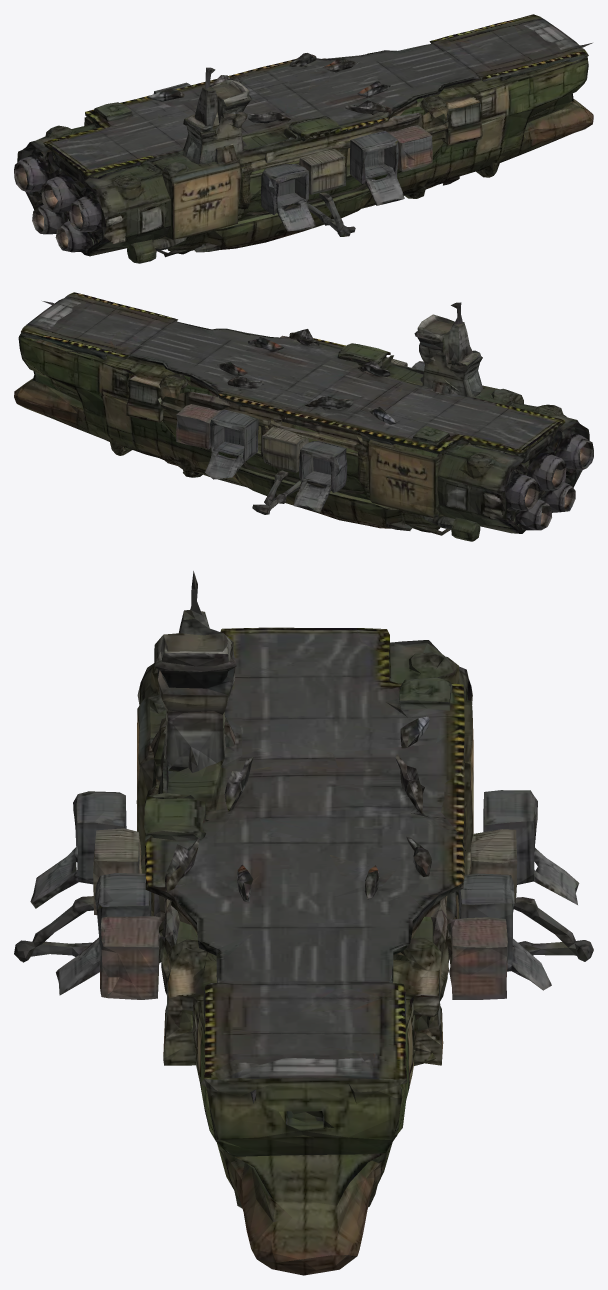
The model's file is 01_航空母艦.glb.
3 views of the same model, one above another, from view 1: azimuth 30°, elevation 25°; view 2: azimuth 150°, elevation 25°; view 3: azimuth 270°, elevation 25° (orthographic). The views are drawn at different scales.
Parts seen in each view (by area): view 1: part_1; view 2: part_1; view 3: part_1.
Part boxes in pixels (<box>): part_1: <box>14,14,593,263</box>; part_1: <box>14,292,593,541</box>; part_1: <box>14,571,593,1275</box>.
Size of the model in its own units: 0.9957 by 0.352 by 0.49.
1 material, 1 textured.
